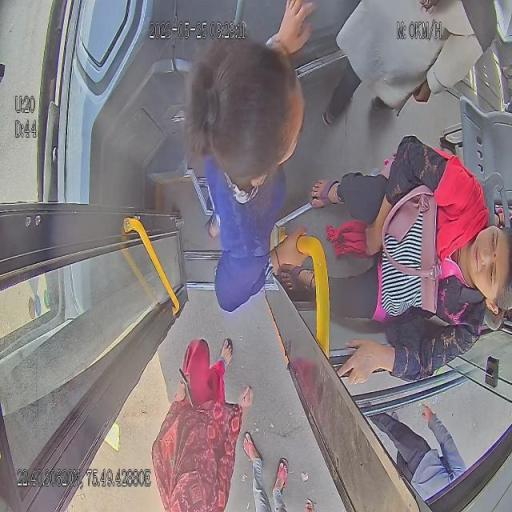persona: (273, 134, 511, 386), (182, 0, 318, 314), (322, 0, 498, 127), (151, 336, 253, 511), (364, 402, 467, 504), (242, 430, 316, 511)
